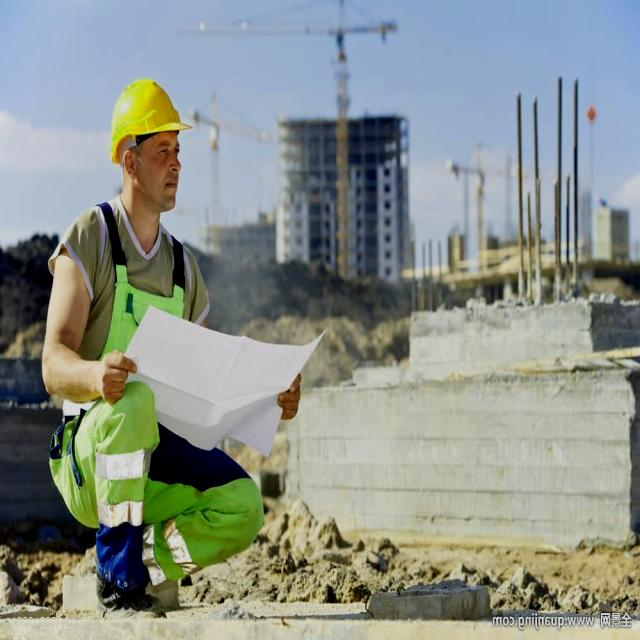face_nomask: (128, 133, 188, 210)
hand_noglove: (96, 344, 134, 411), (274, 367, 303, 430)
head_helmet: (110, 76, 188, 158)
person: (56, 79, 255, 608)
